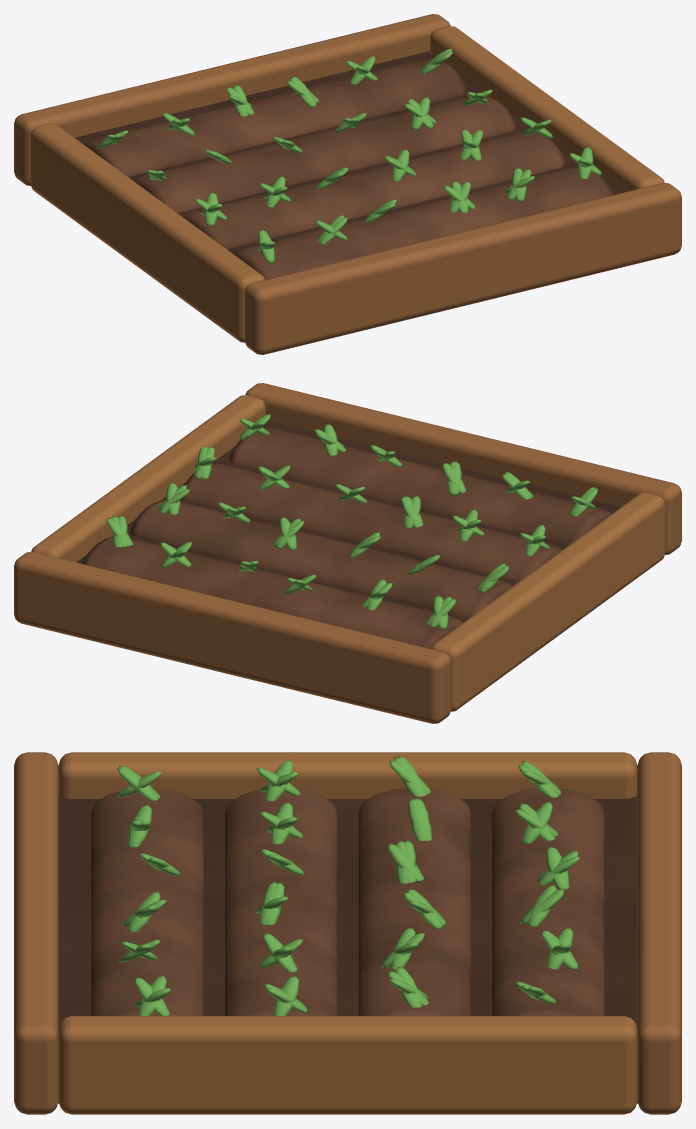
File: crop_wheat_1.glb
The picture shows the model from 3 angles, top to bottom: view 1: azimuth 30°, elevation 25°; view 2: azimuth 150°, elevation 25°; view 3: azimuth 270°, elevation 25°; orthographic projection. The views are drawn at different scales.
Parts seen in each view (by area): view 1: bed; view 2: bed; view 3: bed.
Part boxes in pixels (x1,y1,x2,y2): bed: [14, 14, 681, 354]; bed: [14, 383, 681, 723]; bed: [14, 752, 681, 1114].
Size of the model in its own units: 1.5 by 0.2558 by 1.5.
1 material, 1 textured.
